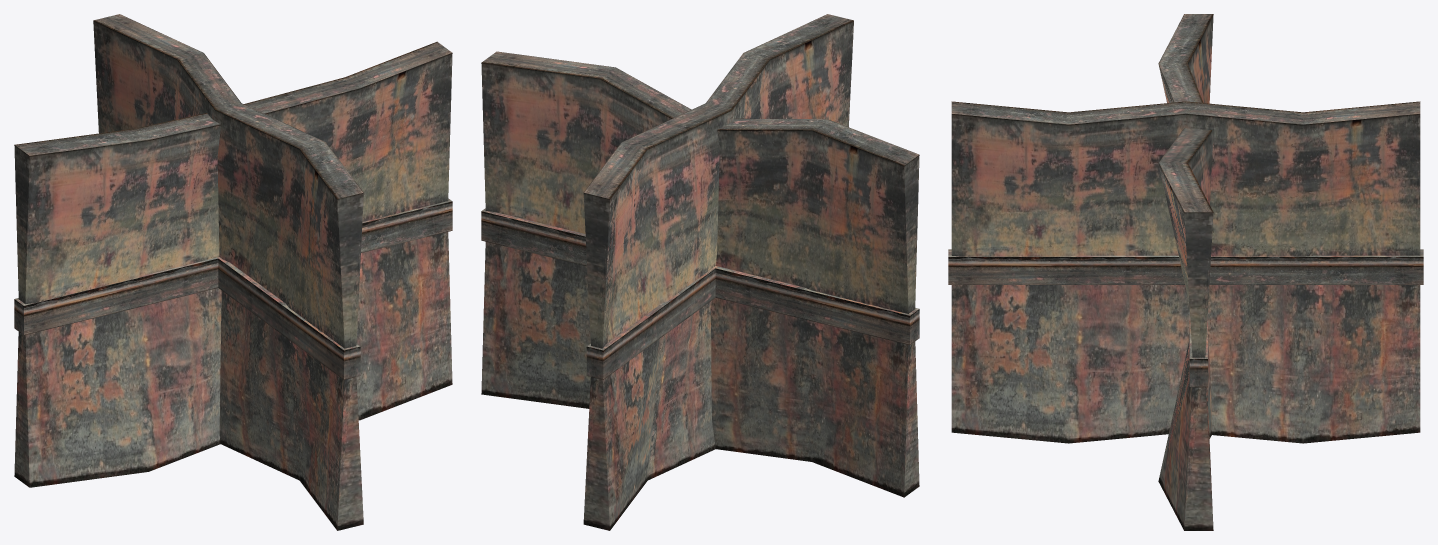
File: wall_X.FBX
The picture shows the model from 3 angles, left to right: view 1: azimuth 30°, elevation 25°; view 2: azimuth 150°, elevation 25°; view 3: azimuth 270°, elevation 25°; orthographic projection. The views are drawn at different scales.
Visible parts, largest first — view 1: wall_base002, wall_base001, Box016, Box015; view 2: wall_base002, wall_base001, Box016, Box015; view 3: wall_base001, wall_base002, Box015, Box016.
Boxes of the visible parts, box(x1,y1,x2,y2) form: wall_base002: box(14, 41, 452, 487); wall_base001: box(93, 14, 363, 530); Box016: box(14, 198, 452, 335); Box015: box(217, 257, 360, 379); wall_base002: box(481, 51, 919, 497); wall_base001: box(583, 14, 853, 530); Box016: box(481, 208, 919, 344); Box015: box(586, 266, 717, 379); wall_base001: box(951, 101, 1420, 443); wall_base002: box(1158, 14, 1213, 530); Box015: box(948, 249, 1423, 284); Box016: box(1189, 311, 1207, 387).
Bounding box in the file's own units: 999 × 739 × 999.
